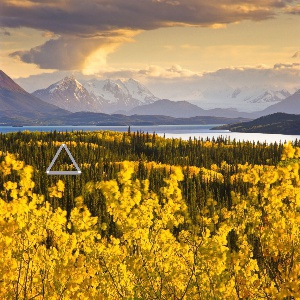triangle: (42, 140, 85, 177)
